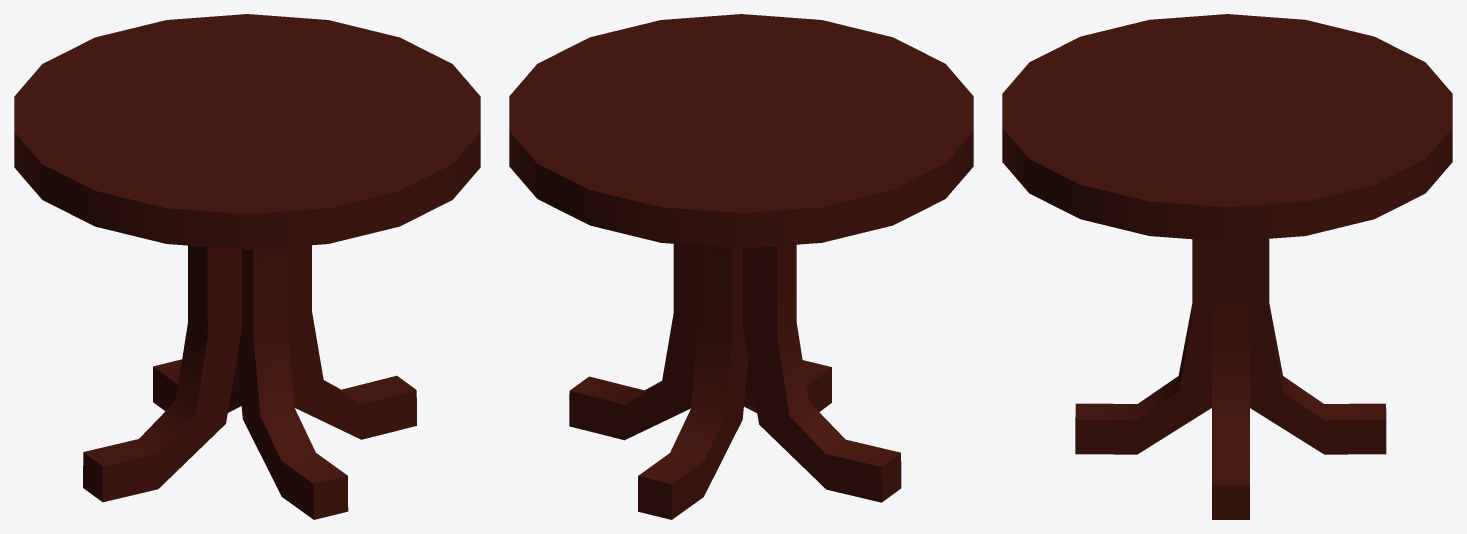
File: Small Table.FBX
The picture shows the model from 3 angles, left to right: view 1: azimuth 30°, elevation 25°; view 2: azimuth 150°, elevation 25°; view 3: azimuth 270°, elevation 25°; orthographic projection. The views are drawn at different scales.
Visible parts, largest first — view 1: Table Top, Table Leg002, Table Leg003, Table Leg001, Table Leg; view 2: Table Top, Table Leg002, Table Leg, Table Leg001, Table Leg003; view 3: Table Top, Table Leg001, Table Leg003, Table Leg.
Part boxes in pixels (x1,y1,x2,y2): Table Top: (14,14,480,249); Table Leg002: (83,245,241,502); Table Leg003: (237,247,348,519); Table Leg001: (287,245,416,439); Table Leg: (153,359,241,412); Table Top: (509,14,973,248); Table Leg002: (743,244,901,502); Table Leg: (638,245,748,519); Table Leg001: (569,244,698,440); Table Leg003: (744,360,831,412); Table Top: (1002,14,1452,241); Table Leg001: (1212,240,1249,519); Table Leg003: (1075,239,1211,454); Table Leg: (1250,239,1386,454).
Bounding box in the file's own units: 1.2 × 0.9658 × 1.18.
